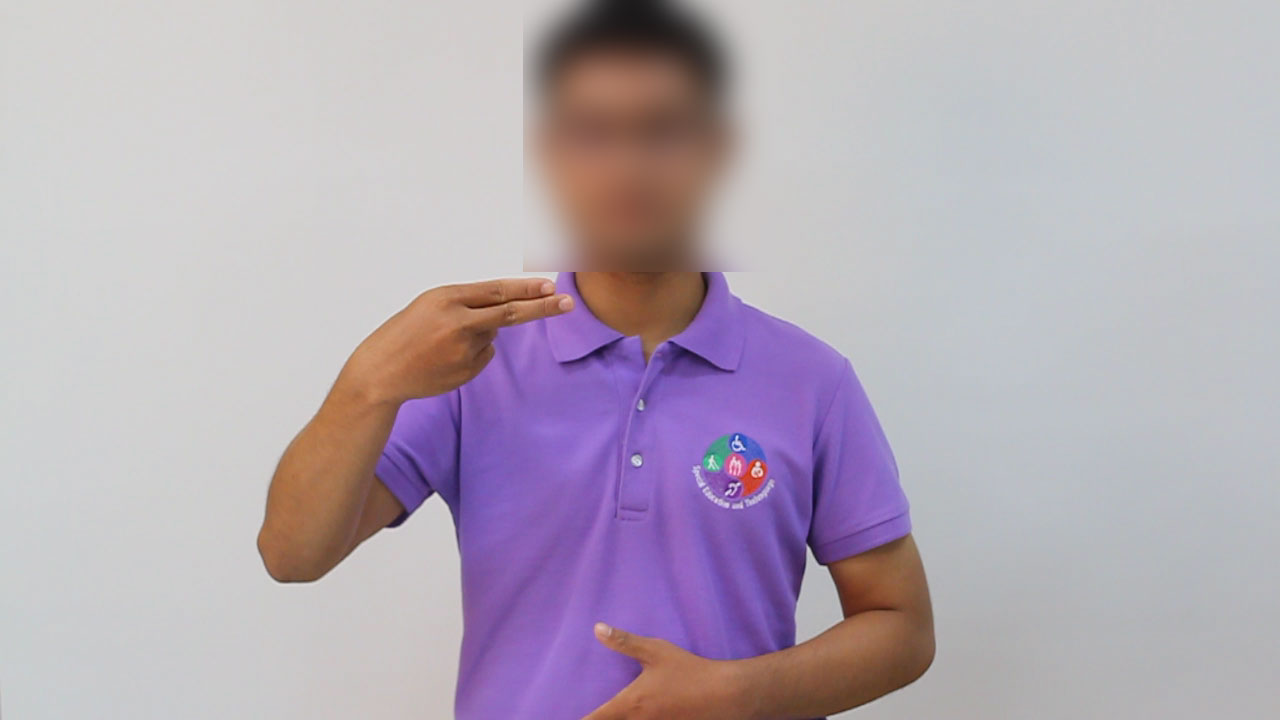hor: (338, 264, 589, 409)
